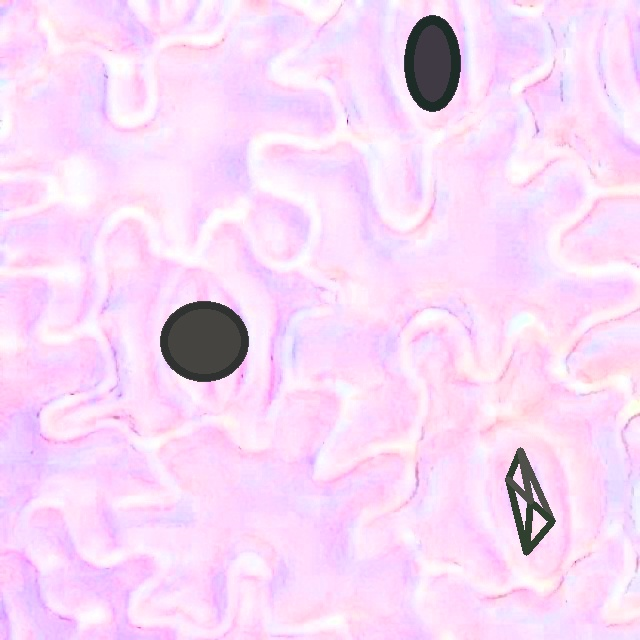open: (161, 302, 248, 380), (505, 447, 555, 555), (404, 16, 459, 110)
